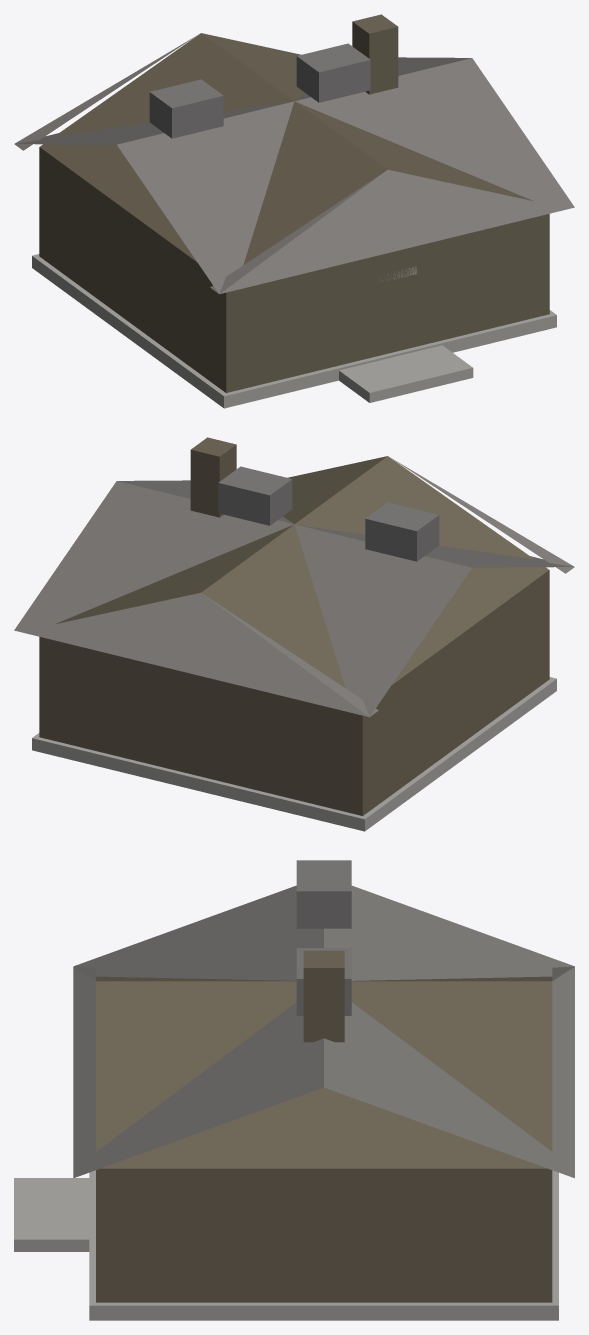
The model's file is b_house3.glb.
The picture shows the model from 3 angles, top to bottom: view 1: azimuth 30°, elevation 25°; view 2: azimuth 150°, elevation 25°; view 3: azimuth 270°, elevation 25°; orthographic projection. The views are drawn at different scales.
Visible parts, largest first — view 1: Building; view 2: Building; view 3: Building.
Part boxes in pixels (box(x1,y1,x2,y2)): Building: box(14, 14, 574, 408); Building: box(14, 437, 574, 831); Building: box(14, 860, 574, 1320).
Bounding box in the file's own units: 11 × 7.5 × 12.3.
Materials: 6 (2 with a texture image).
